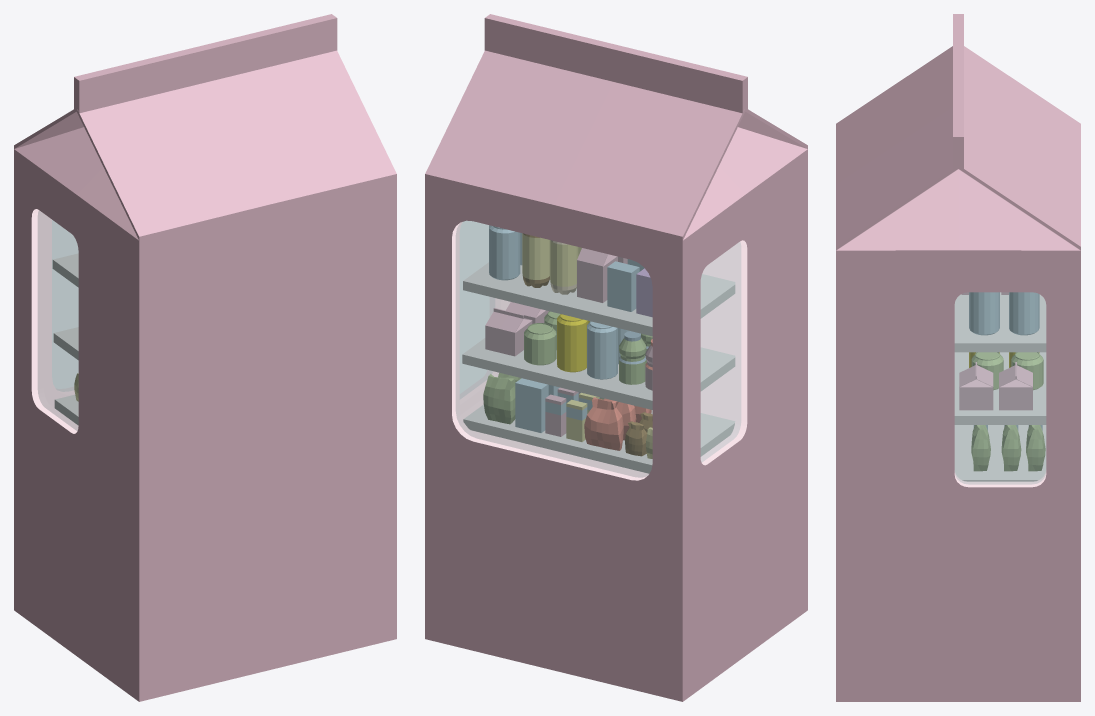
File: vendingmachine.glb
3 renders of one model, left to right at view 1: azimuth 30°, elevation 25°; view 2: azimuth 150°, elevation 25°; view 3: azimuth 270°, elevation 25°, orthographic. The views are drawn at different scales.
Visible parts, largest first — view 1: vending machine, can.011; view 2: vending machine, can.011, can.014, can.013, can.005, can, can.010, can.023, can.012, can.020, can.009, can.007 (+9 smaller); view 3: vending machine, can.011, can.013, can.014, can.032, can.010, can.035, can.020, can.046, can.029, can.007, can.024 (+1 smaller).
Part boxes in pixels (left/top/right/bottom): vending machine: left=14, top=14, right=396, bottom=701; can.011: left=52, top=253, right=78, bottom=287; vending machine: left=425, top=14, right=807, bottom=701; can.011: left=463, top=262, right=735, bottom=336; can.014: left=462, top=338, right=735, bottom=409; can.013: left=463, top=404, right=735, bottom=473; can.005: left=584, top=397, right=623, bottom=450; can: left=587, top=321, right=617, bottom=379; can.010: left=485, top=308, right=532, bottom=356; can.023: left=557, top=314, right=588, bottom=372; can.012: left=577, top=248, right=617, bottom=302; can.020: left=489, top=225, right=520, bottom=280; can.009: left=515, top=378, right=548, bottom=432; can.007: left=483, top=374, right=515, bottom=424; vending machine: left=836, top=14, right=1080, bottom=701; can.011: left=954, top=292, right=1046, bottom=352; can.013: left=954, top=425, right=1046, bottom=481; can.014: left=954, top=352, right=1046, bottom=424; can.032: left=959, top=362, right=993, bottom=410; can.010: left=999, top=362, right=1032, bottom=410; can.035: left=969, top=292, right=999, bottom=335; can.020: left=1009, top=292, right=1039, bottom=335; can.046: left=971, top=425, right=990, bottom=471; can.029: left=1001, top=425, right=1021, bottom=471; can.007: left=1026, top=425, right=1045, bottom=471; can.024: left=1011, top=352, right=1043, bottom=390.
Bounding box in the file's own units: 1.18 × 2.53 × 0.9957.
